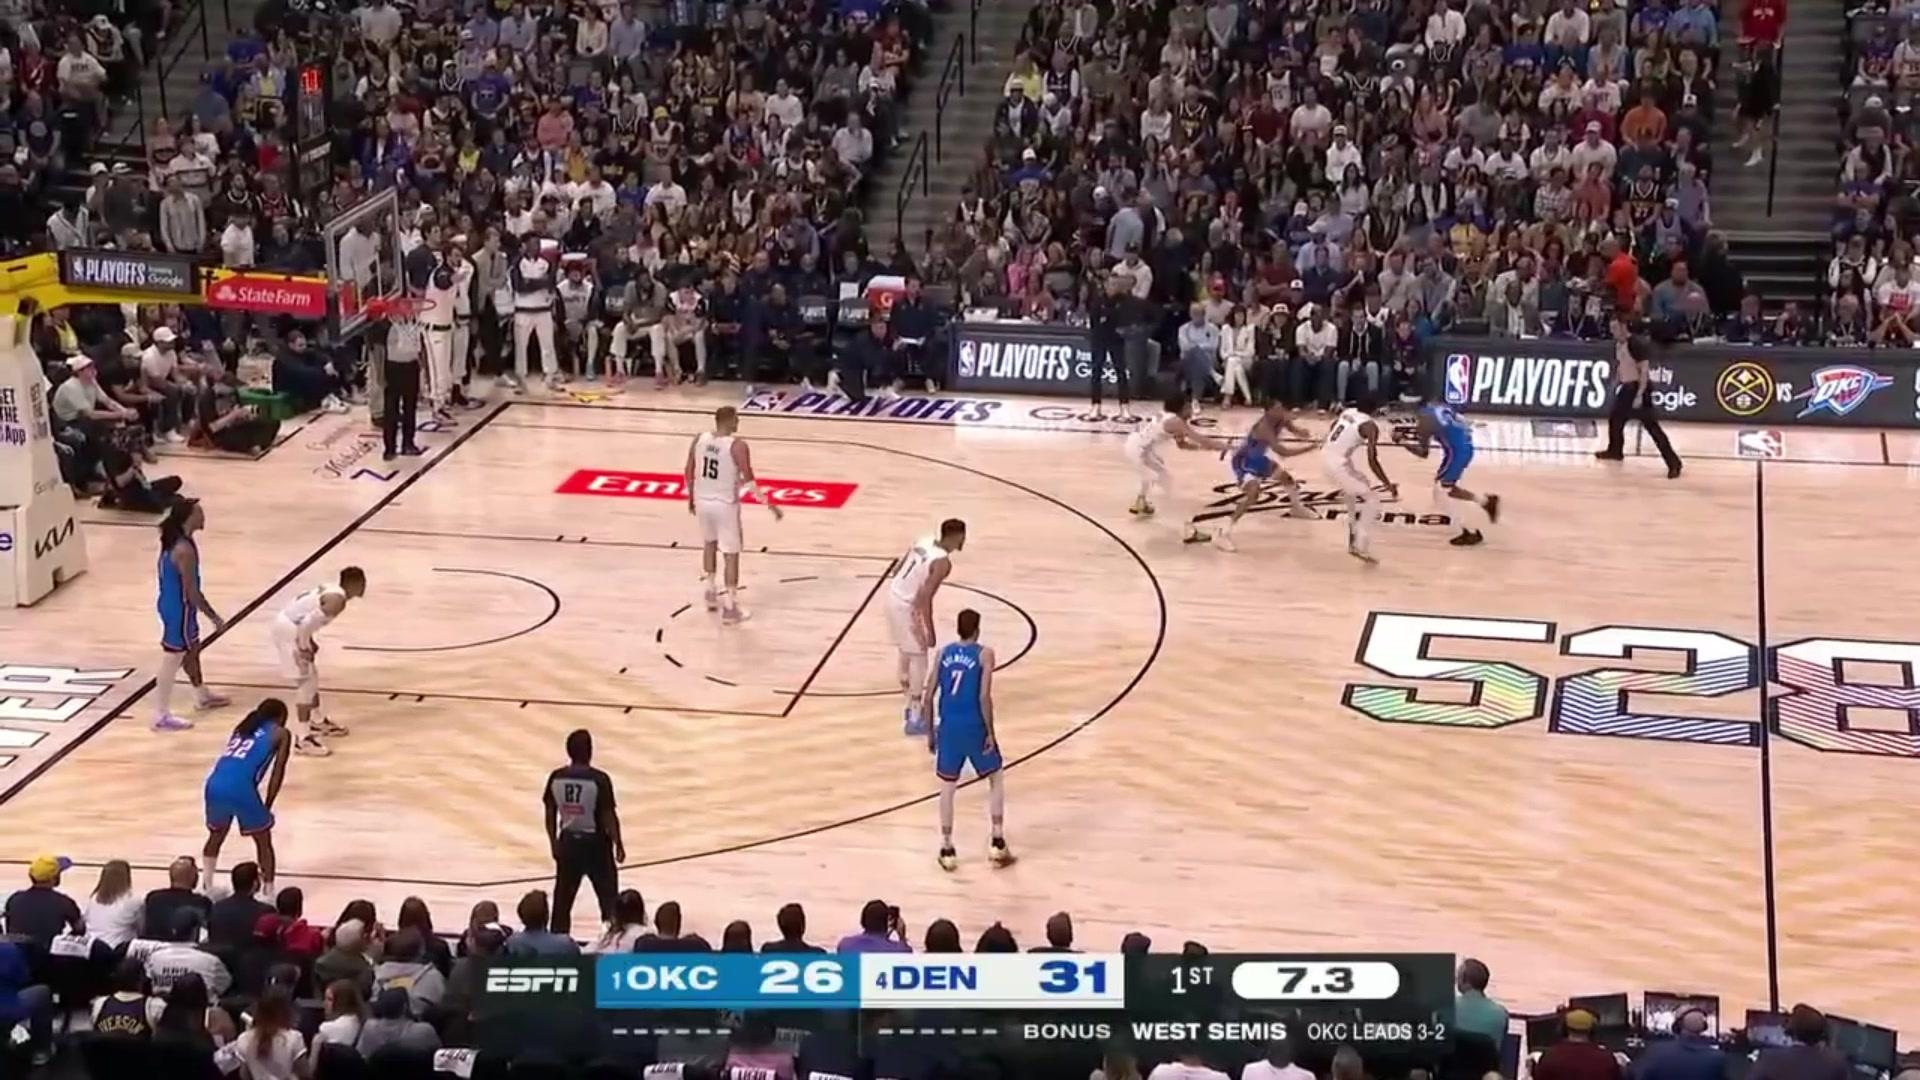no_foul: (1223, 371, 1411, 583)
